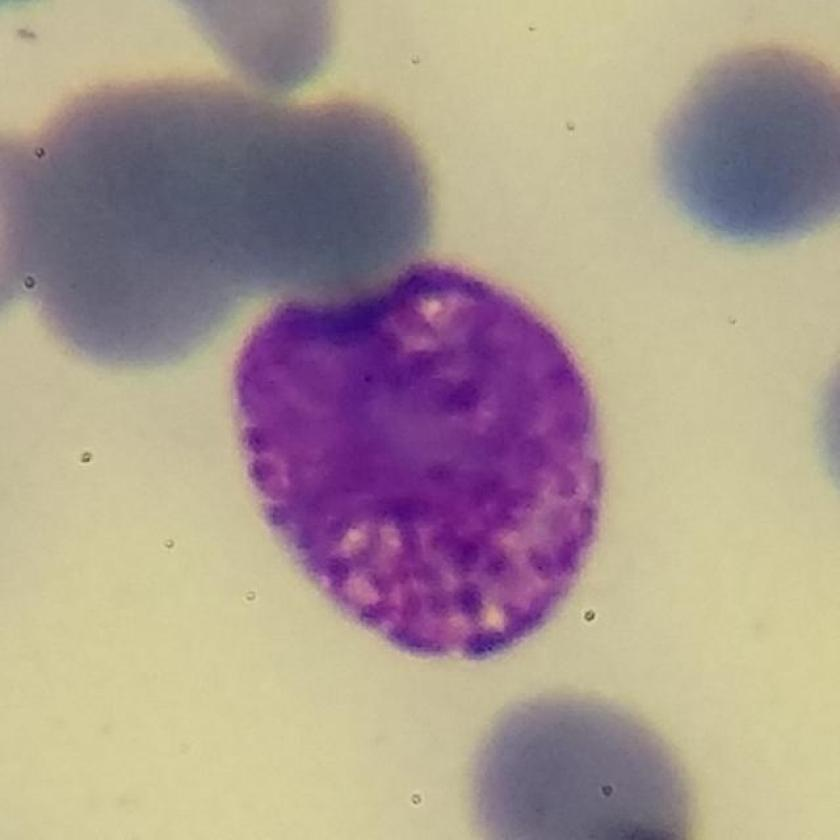basophil: (232, 256, 606, 676)
